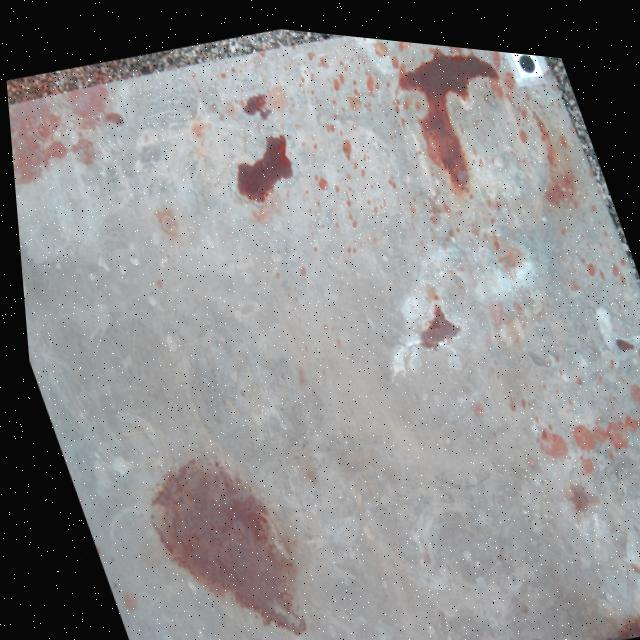corrosion: (141, 453, 294, 627), (397, 38, 496, 177), (7, 82, 120, 184), (233, 128, 288, 194), (565, 402, 640, 438), (593, 590, 640, 631), (413, 295, 453, 340), (556, 470, 590, 500), (528, 415, 560, 445), (240, 87, 268, 112)
